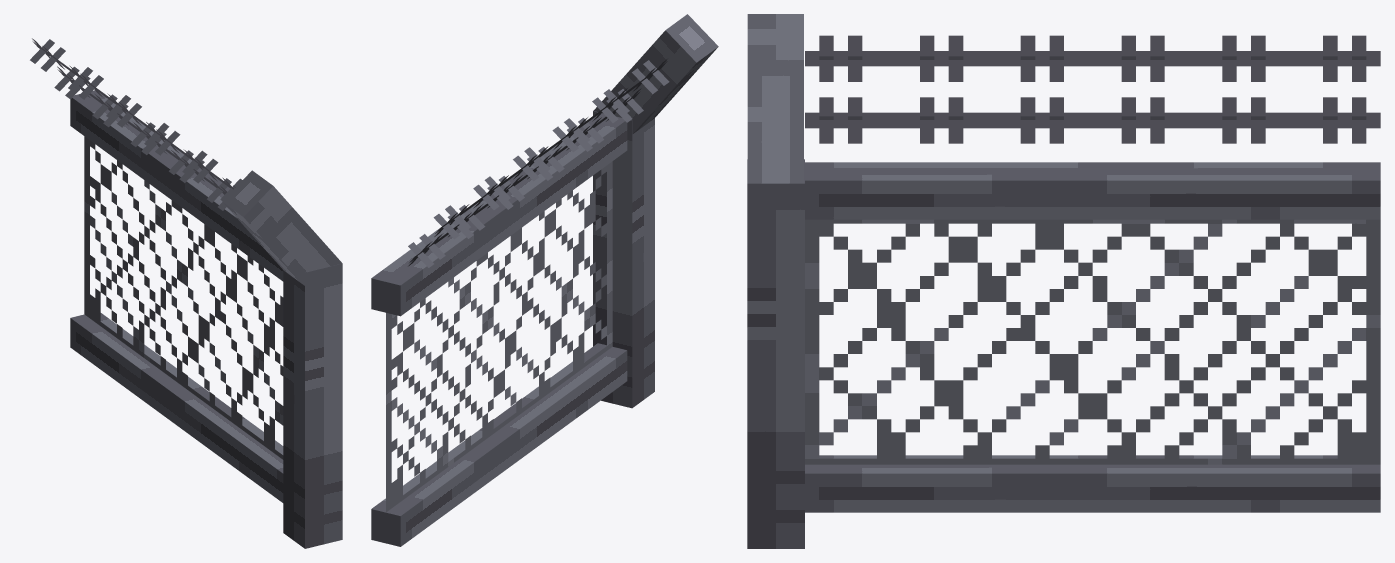
Rendered from fence3_2.gltf.
3 views of the same model, side by side, from view 1: azimuth 30°, elevation 25°; view 2: azimuth 150°, elevation 25°; view 3: azimuth 270°, elevation 25° (orthographic). The views are drawn at different scales.
Parts seen in each view (by area): view 1: cube (×8); view 2: cube (×8); view 3: cube (×6).
Boxes of the visible parts, bbox=[...] form: cube (×8): bbox=[30, 38, 342, 548]; cube (×8): bbox=[371, 14, 718, 546]; cube (×6): bbox=[747, 14, 1380, 548].
Bounding box in the file's own units: 1.23 × 4.39 × 5.14.
Materials: 1 (1 with a texture image).
